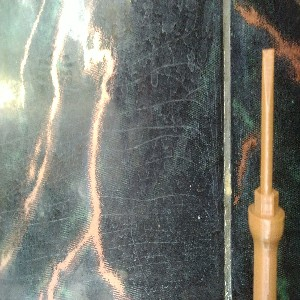obeng: (247, 47, 286, 300)
